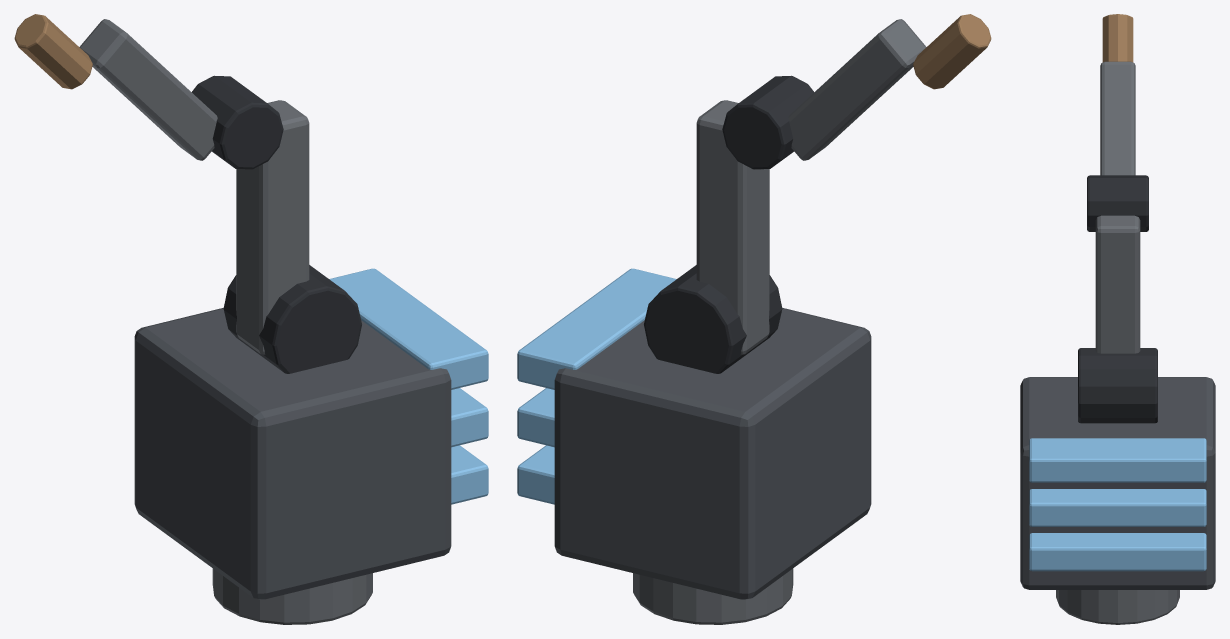
Rendered from module_aux_repair.fbx.
3 renders of one model, left to right at view 1: azimuth 30°, elevation 25°; view 2: azimuth 150°, elevation 25°; view 3: azimuth 270°, elevation 25°, orthographic. The views are drawn at different scales.
Parts seen in each view (by area): view 1: SM_Module_AuxRepair; view 2: SM_Module_AuxRepair; view 3: SM_Module_AuxRepair.
Part boxes in pixels (left/top/right/bottom): SM_Module_AuxRepair: left=14, top=14, right=488, bottom=624; SM_Module_AuxRepair: left=517, top=14, right=991, bottom=624; SM_Module_AuxRepair: left=1020, top=14, right=1215, bottom=624.
Size of what is drawn, in the model's own units: 41.59 by 61.22 by 22.
